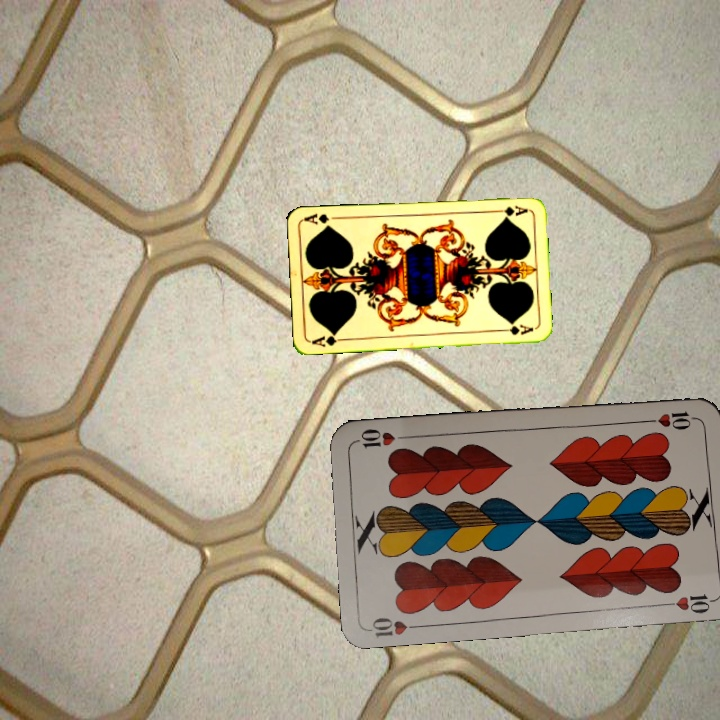GA: (308, 329, 348, 349), (490, 201, 530, 219)
H10: (366, 613, 425, 639), (641, 407, 700, 430)
